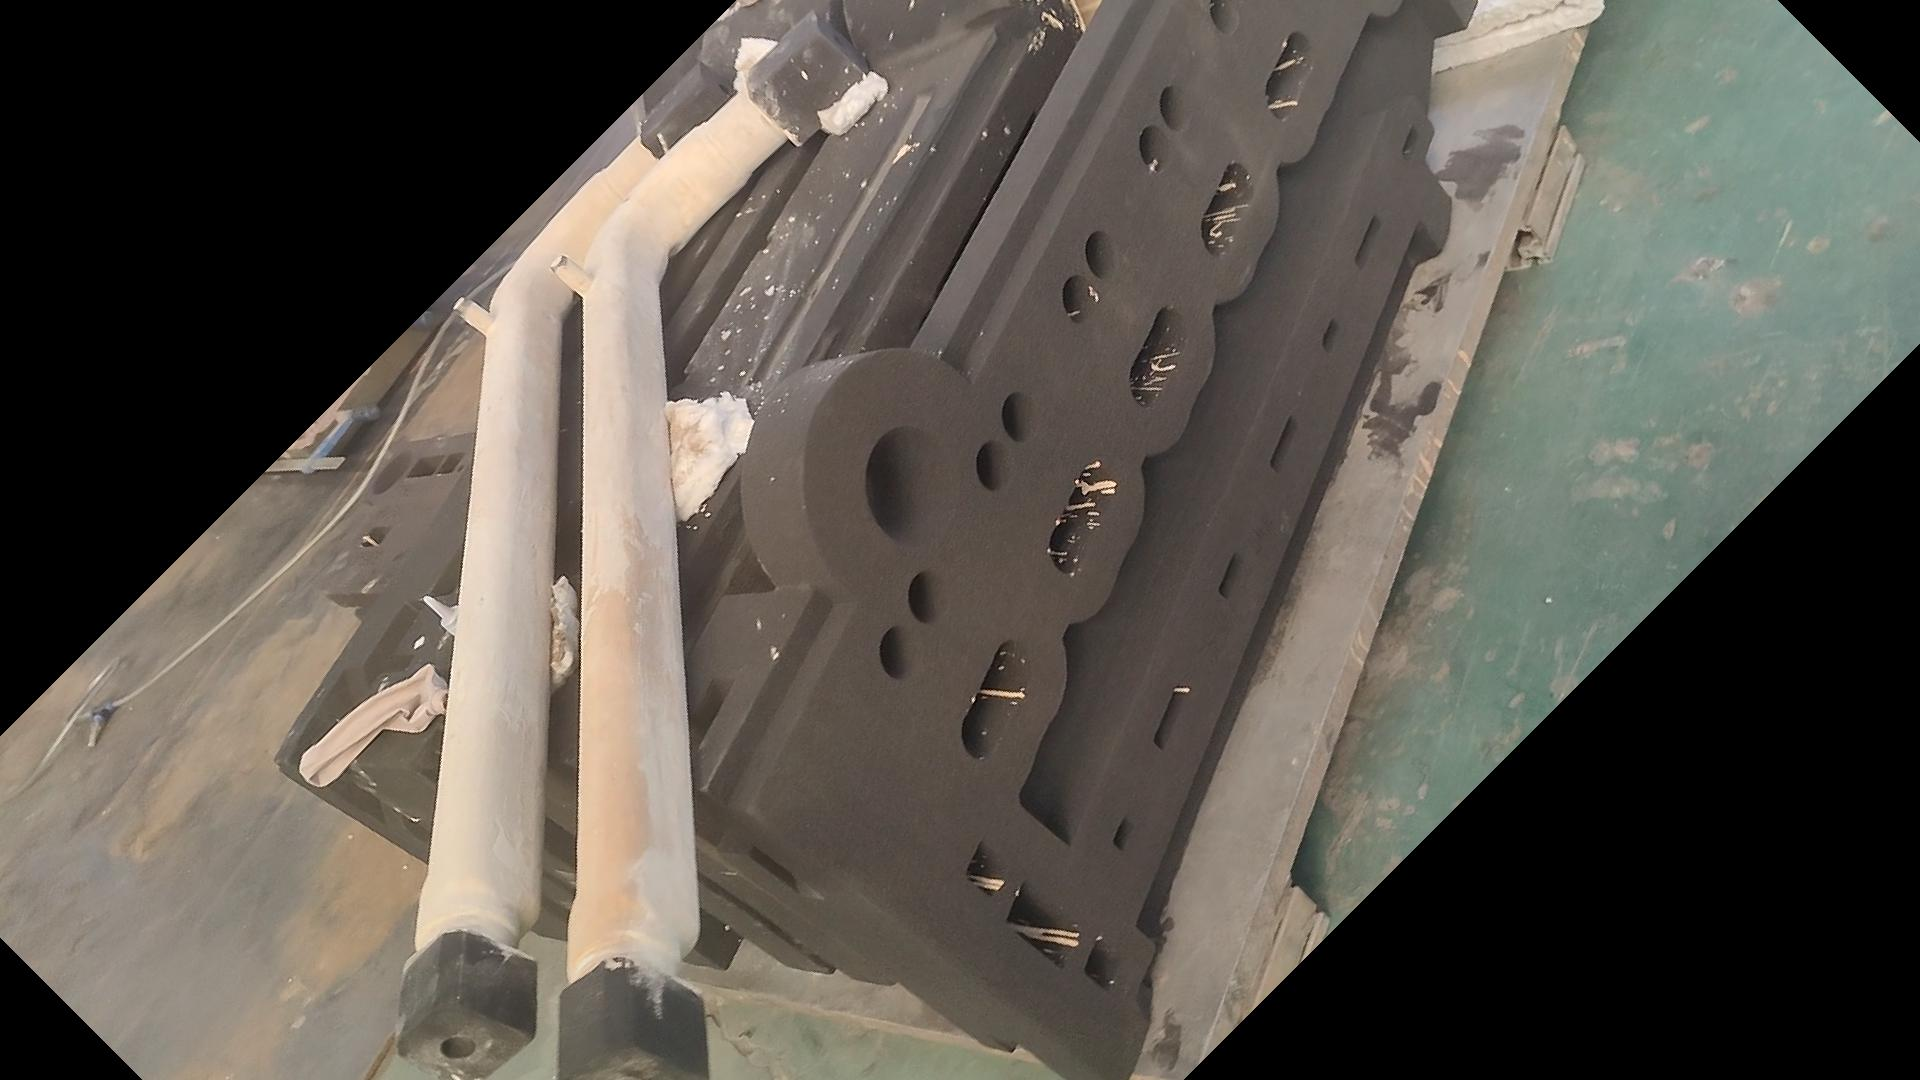pouring hole: (865, 426, 960, 545), (369, 448, 414, 495)
